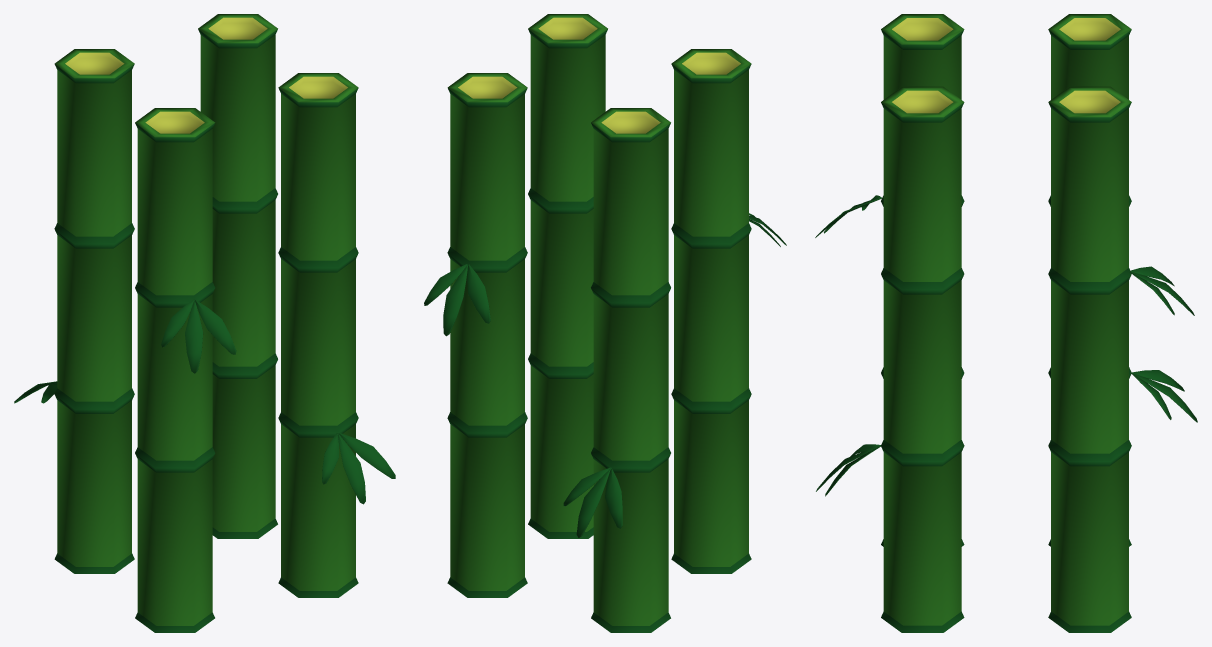
File: Bamboo.fbx
The picture shows the model from 3 angles, left to right: view 1: azimuth 30°, elevation 25°; view 2: azimuth 150°, elevation 25°; view 3: azimuth 270°, elevation 25°; orthographic projection. The views are drawn at different scales.
Visible parts, largest first — view 1: Cylinder, Plane.003, Plane.004; view 2: Cylinder, Plane.002, Plane.001; view 3: Cylinder, Plane.001, Plane.002, Plane.004.
Part boxes in pixels (x1,y1,x2,y2): Cylinder: [54, 14, 358, 632]; Plane.003: [161, 299, 236, 373]; Plane.004: [322, 432, 395, 504]; Cylinder: [447, 14, 751, 632]; Plane.002: [424, 264, 490, 336]; Plane.001: [563, 467, 622, 537]; Cylinder: [881, 14, 1131, 632]; Plane.001: [1131, 370, 1197, 422]; Plane.002: [1130, 266, 1194, 315]; Plane.004: [816, 444, 880, 496].
Bounding box in the file's own units: 2.56 × 5.62 × 3.78.
